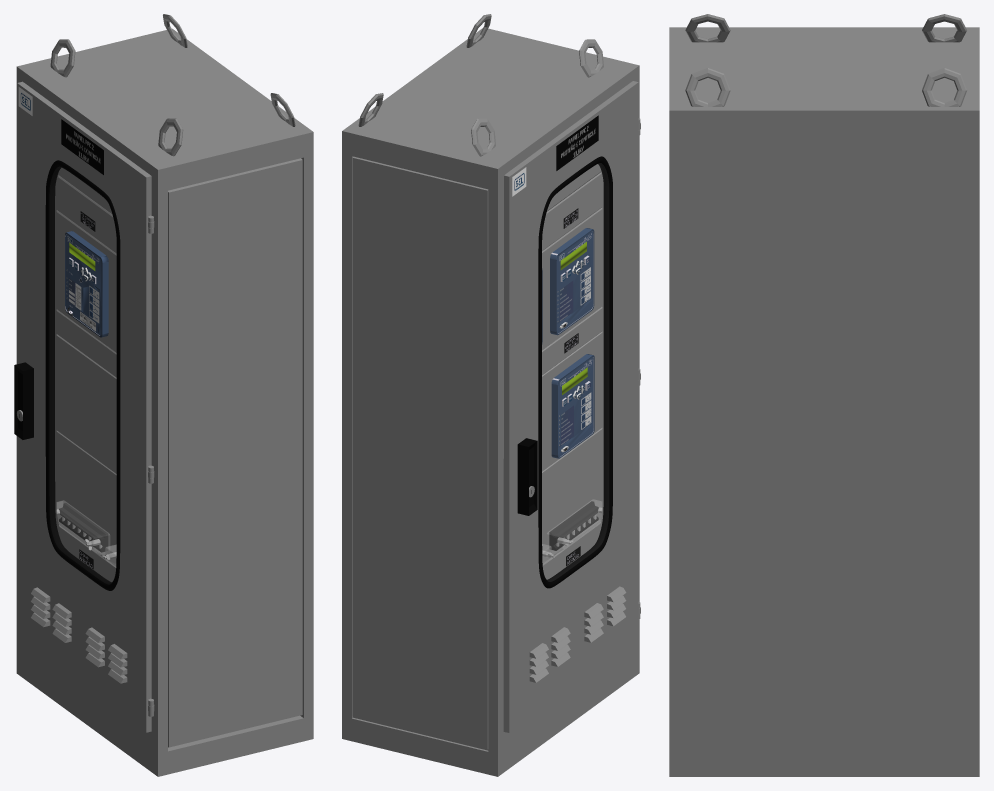
Rendered from Painel PPC2.fbx.
3 views of the same model, side by side, from view 1: azimuth 30°, elevation 25°; view 2: azimuth 150°, elevation 25°; view 3: azimuth 270°, elevation 25° (orthographic). The views are drawn at different scales.
Parts seen in each view (by area): view 1: Base Estructure, Porta, Cubo.104, Circle.001, PPC2; view 2: Base Estructure, Porta, Cubo.017, Cubo.043, Circle, PPC2; view 3: Base Estructure.
Part boxes in pixels (x1=…): Base Estructure: x1=16, y1=14, x2=313, y2=776; Porta: x1=14, y1=81, x2=154, y2=732; Cubo.104: x1=65, y1=231, x2=108, y2=337; Circle.001: x1=56, y1=500, x2=109, y2=555; PPC2: x1=61, y1=119, x2=103, y2=174; Base Estructure: x1=342, y1=14, x2=639, y2=776; Porta: x1=503, y1=81, x2=640, y2=732; Cubo.017: x1=550, y1=228, x2=594, y2=335; Cubo.043: x1=551, y1=354, x2=594, y2=458; Circle: x1=547, y1=499, x2=602, y2=554; PPC2: x1=556, y1=115, x2=598, y2=170; Base Estructure: x1=669, y1=14, x2=979, y2=776.
Size of the model in its own units: 160 by 567 by 228.
83 materials, 19 textured.
